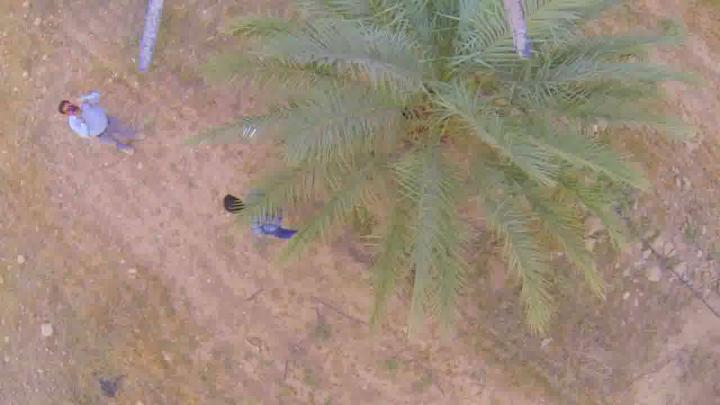Date-Palm-Crown: (314, 1, 574, 237)
